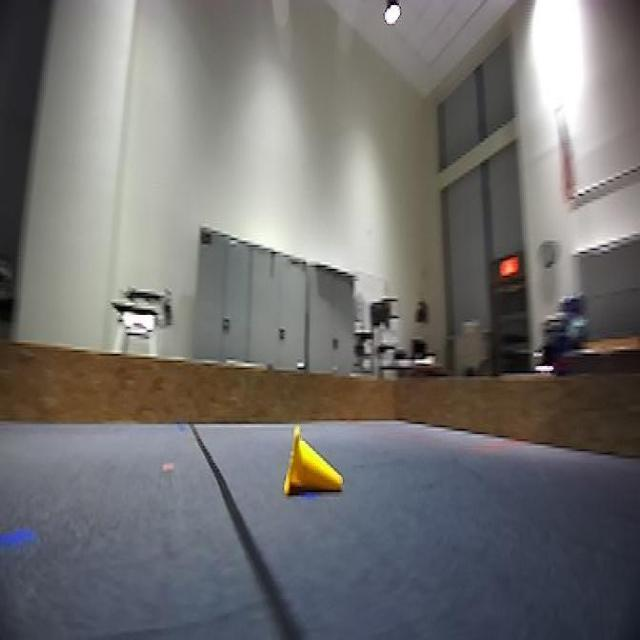frc_cone: (281, 420, 346, 508)
